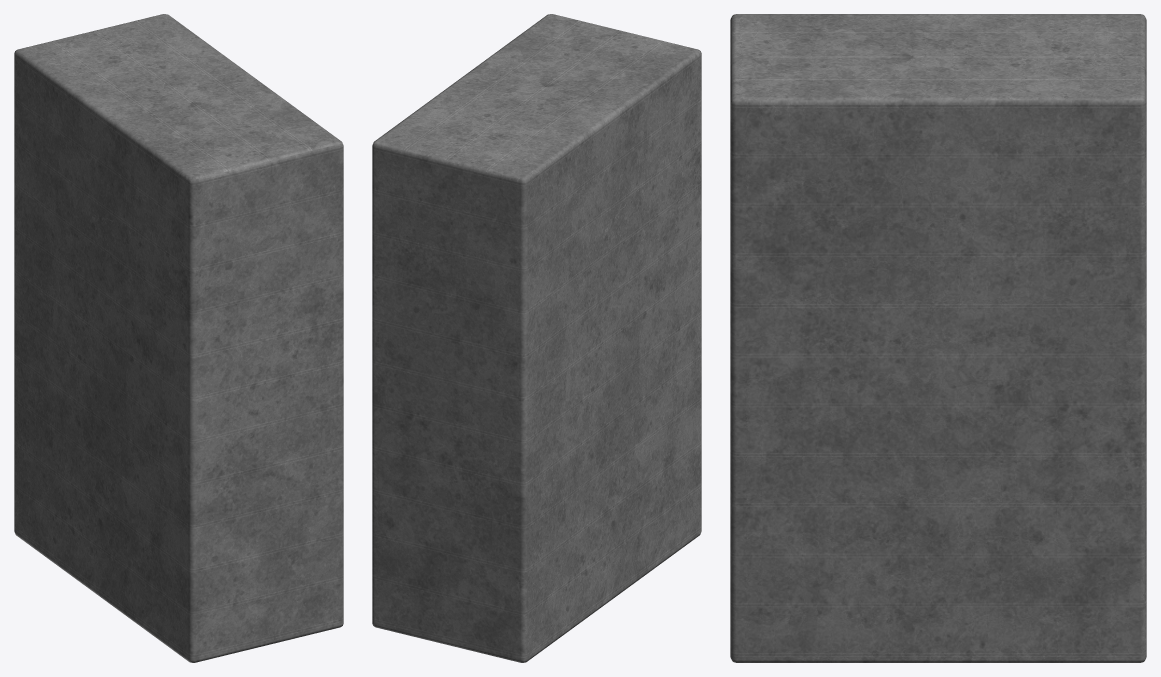
File: SM_Ceiling_18.fbx
3 renders of one model, left to right at view 1: azimuth 30°, elevation 25°; view 2: azimuth 150°, elevation 25°; view 3: azimuth 270°, elevation 25°, orthographic. The views are drawn at different scales.
Visible parts, largest first — view 1: SM_Ceiling_18; view 2: SM_Ceiling_18; view 3: SM_Ceiling_18.
Boxes of the visible parts, x1=… form: SM_Ceiling_18: x1=14, y1=14, x2=343, y2=662; SM_Ceiling_18: x1=372, y1=14, x2=701, y2=662; SM_Ceiling_18: x1=730, y1=14, x2=1146, y2=662.
Size of the model in its own units: 100 by 300 by 200.
